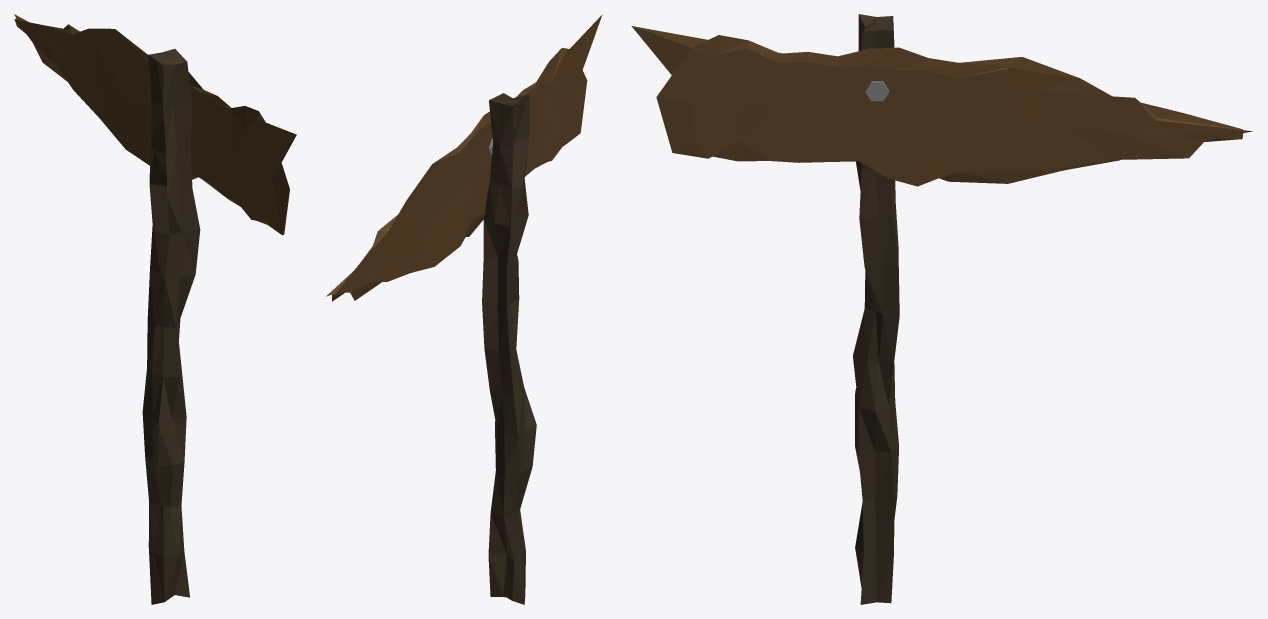
The model's file is Sign.fbx.
3 views of the same model, side by side, from view 1: azimuth 30°, elevation 25°; view 2: azimuth 150°, elevation 25°; view 3: azimuth 270°, elevation 25° (orthographic). The views are drawn at different scales.
Parts seen in each view (by area): view 1: Sign; view 2: Sign; view 3: Sign.
Part boxes in pixels (left/top/right/bottom): Sign: left=14, top=14, right=296, bottom=604; Sign: left=326, top=14, right=602, bottom=604; Sign: left=631, top=14, right=1252, bottom=604.
Size of the model in its own units: 18.9 by 225 by 217.
